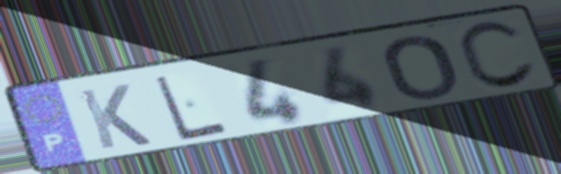4: (318, 41, 385, 116), (243, 55, 309, 128)
C: (454, 18, 542, 93)
K: (75, 82, 156, 153)
L: (151, 73, 232, 144)
O: (380, 33, 462, 103)
